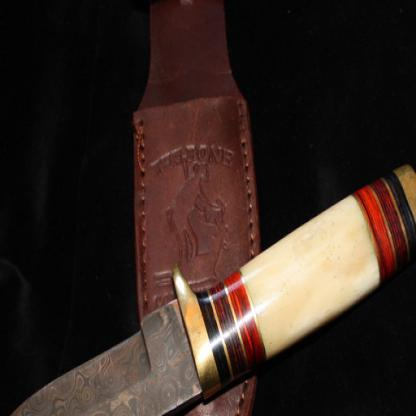knife: (0, 158, 415, 414)
